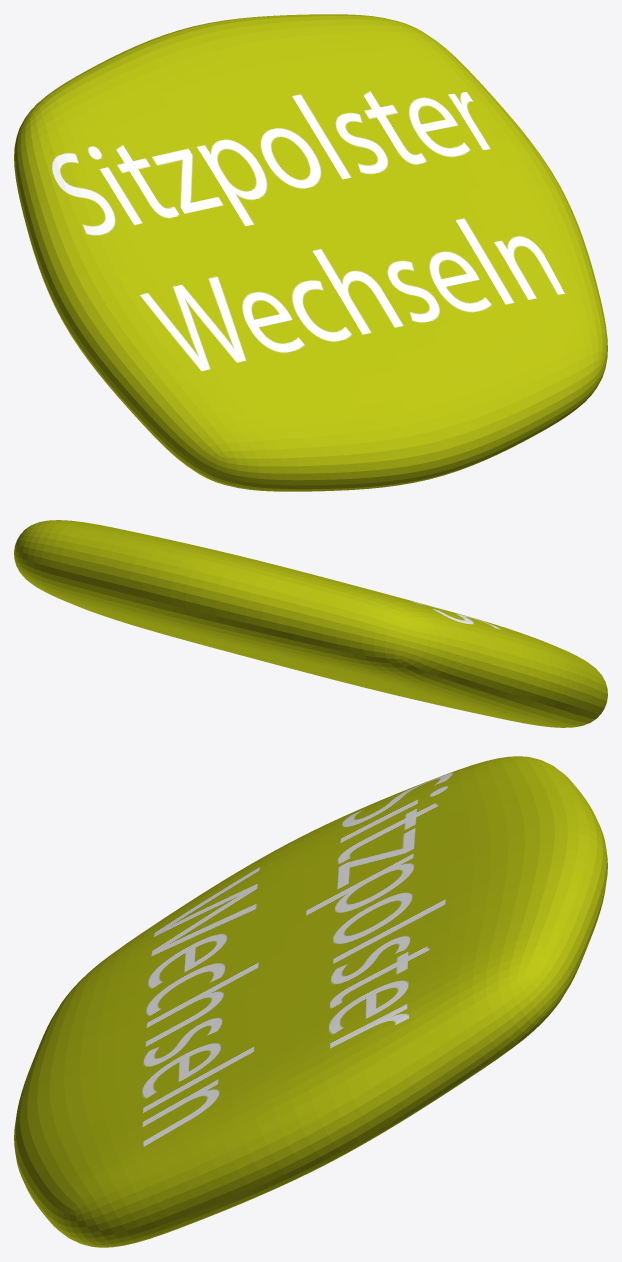
File: button_to_change_texture.gltf
The picture shows the model from 3 angles, top to bottom: view 1: azimuth 30°, elevation 25°; view 2: azimuth 150°, elevation 25°; view 3: azimuth 270°, elevation 25°; orthographic projection. The views are drawn at different scales.
Parts seen in each view (by area): view 1: Cube; view 2: Cube; view 3: Cube.
Part boxes in pixels (box(x1,y1,x2,y2)): Cube: box(14, 14, 607, 491); Cube: box(14, 520, 607, 727); Cube: box(14, 756, 607, 1247).
Bounding box in the file's own units: 0.1347 × 0.075 × 0.1186.
Materials: 1 (1 with a texture image).
